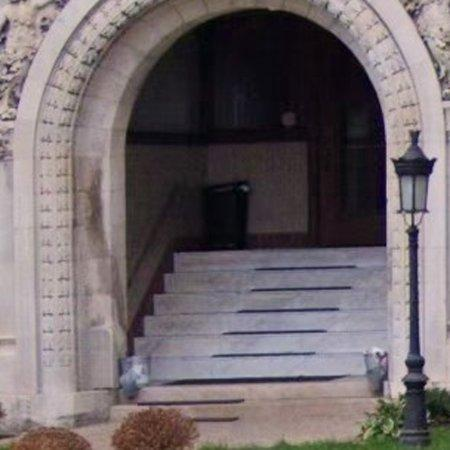stairs: (113, 247, 388, 445)
